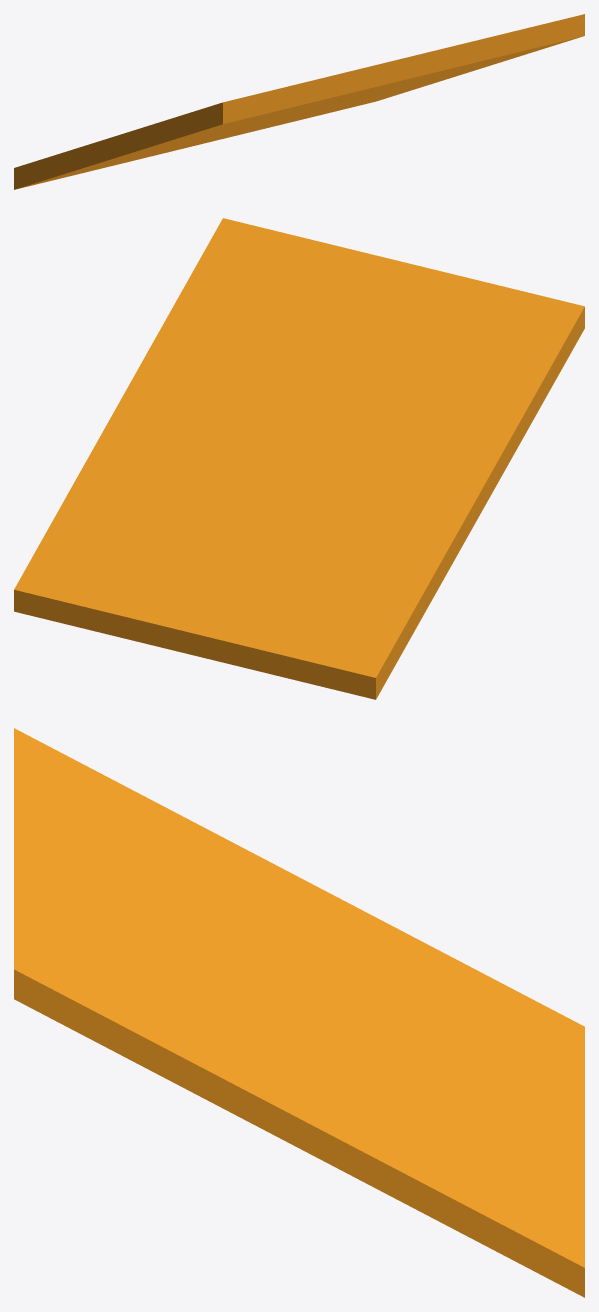
The model's file is SM_Buildings_RoofAngled_2x2_01.fbx.
The picture shows the model from 3 angles, top to bottom: view 1: azimuth 30°, elevation 25°; view 2: azimuth 150°, elevation 25°; view 3: azimuth 270°, elevation 25°; orthographic projection. The views are drawn at different scales.
Parts seen in each view (by area): view 1: SM_Buildings_RoofAngled_2x2_01; view 2: SM_Buildings_RoofAngled_2x2_01; view 3: SM_Buildings_RoofAngled_2x2_01.
Part boxes in pixels (box(x1,y1,x2,y2)): SM_Buildings_RoofAngled_2x2_01: box(14, 14, 584, 189); SM_Buildings_RoofAngled_2x2_01: box(14, 218, 584, 699); SM_Buildings_RoofAngled_2x2_01: box(14, 728, 584, 1297).
Size of the model in its own units: 200 by 127 by 200.
